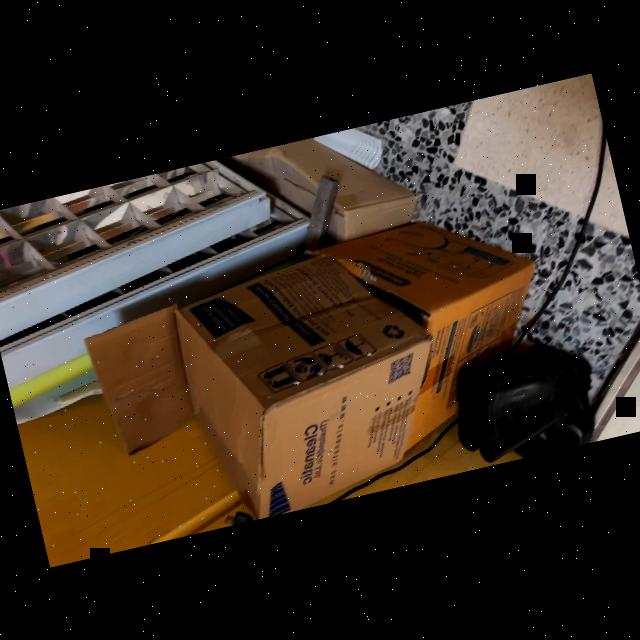cardboard_box: (72, 230, 454, 549), (298, 198, 556, 468)
